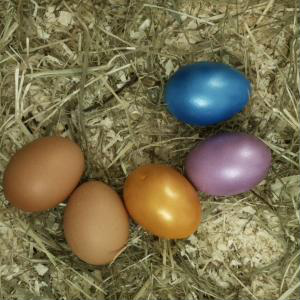egg: (2, 136, 86, 212), (123, 163, 202, 239), (61, 178, 129, 266), (185, 132, 272, 197), (165, 62, 251, 126)
